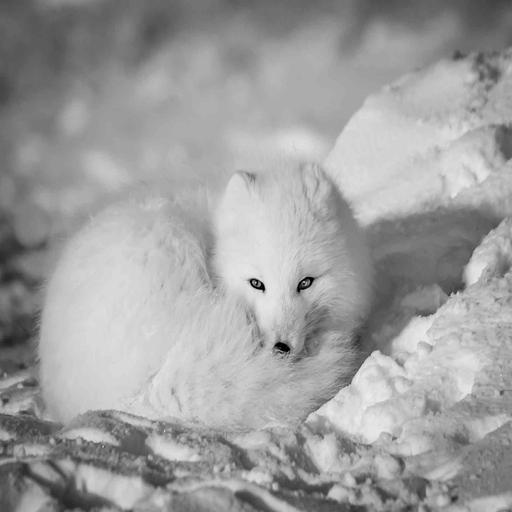Fox: (38, 147, 374, 455)
